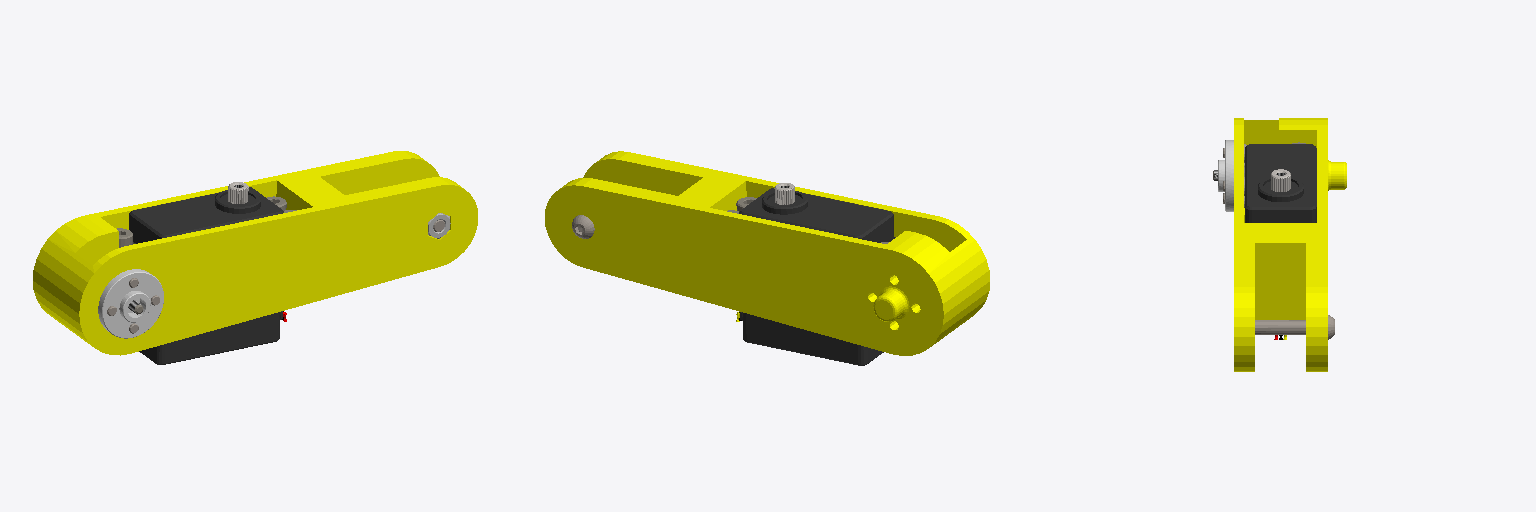
3 renders of one model, left to right at view 1: azimuth 30°, elevation 25°; view 2: azimuth 150°, elevation 25°; view 3: azimuth 270°, elevation 25°, orthographic.
Visible parts, largest first — view 1: mesh 8 Boss-Extrude3, mesh 1 R2 joint-1/CLS6336HV-1, mesh 11 Fillet2; view 2: mesh 8 Boss-Extrude3, mesh 1 R2 joint-1/CLS6336HV-1; view 3: mesh 8 Boss-Extrude3, mesh 1 R2 joint-1/CLS6336HV-1, mesh 9 Sweep1 face, mesh 11 Fillet2.
Part boxes in pixels (bbox=[...]): mesh 8 Boss-Extrude3: bbox=[33, 151, 477, 355]; mesh 1 R2 joint-1/CLS6336HV-1: bbox=[129, 187, 283, 364]; mesh 11 Fillet2: bbox=[98, 269, 163, 338]; mesh 8 Boss-Extrude3: bbox=[545, 151, 989, 355]; mesh 1 R2 joint-1/CLS6336HV-1: bbox=[739, 188, 895, 365]; mesh 8 Boss-Extrude3: bbox=[1234, 118, 1346, 371]; mesh 1 R2 joint-1/CLS6336HV-1: bbox=[1245, 144, 1316, 222]; mesh 9 Sweep1 face: bbox=[1223, 144, 1334, 339]; mesh 11 Fillet2: bbox=[1218, 140, 1233, 211].
Bounding box in the file's own units: 0.1285 × 0.0459 × 0.0375.
Materials: 12 (1 with a texture image).